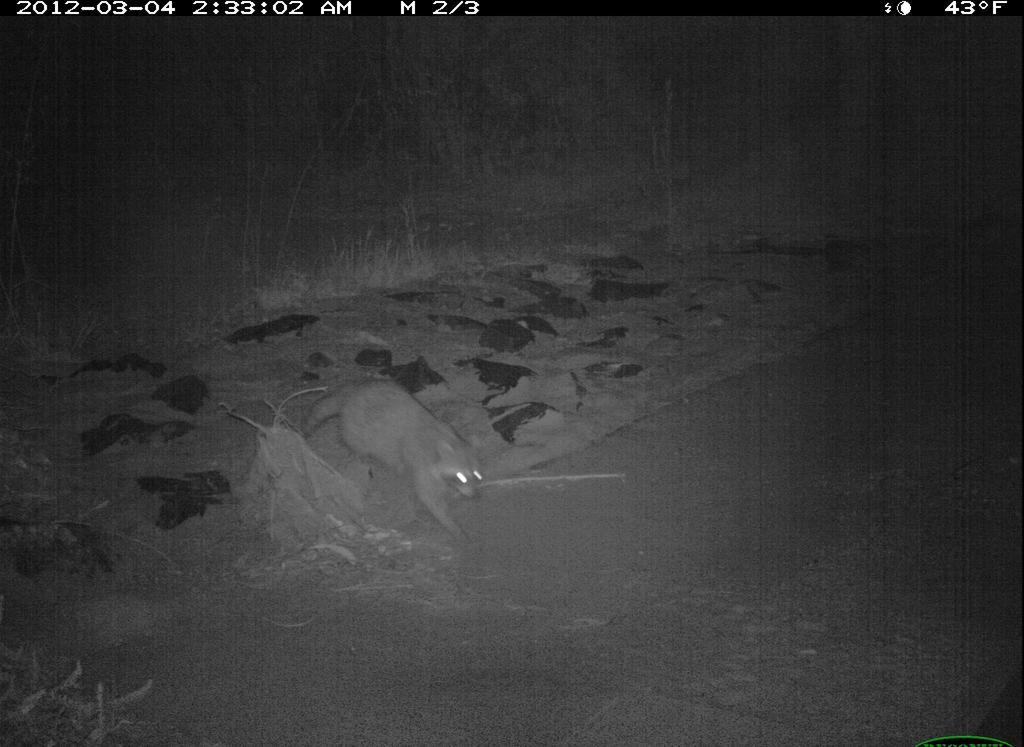raccoon: (295, 367, 493, 553)
